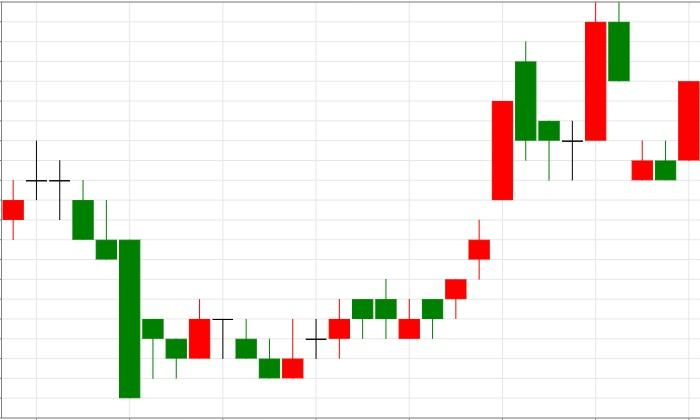inverse_hammer_rise: (258, 279, 397, 379)
